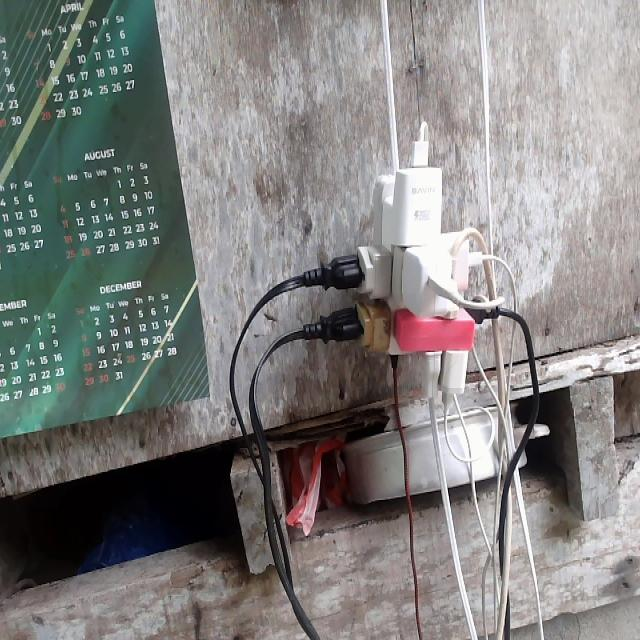-: (306, 136, 502, 407)
